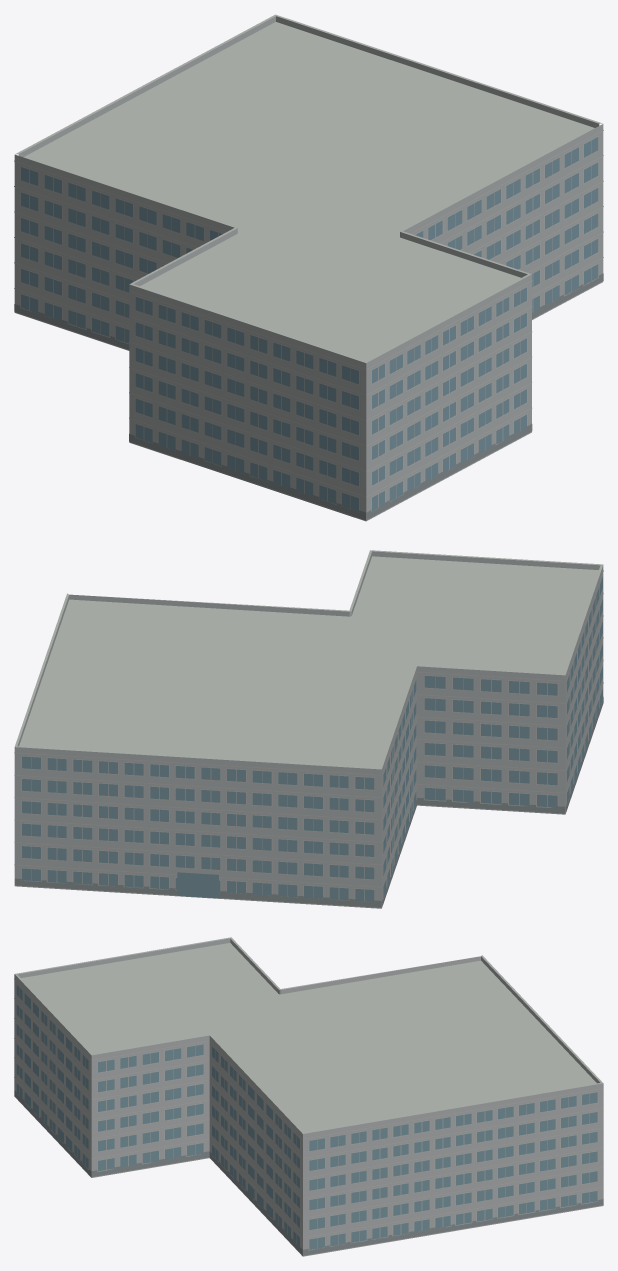
The model's file is public-8a29dd1b-239b-4e88-a797-2ed0fd060c42.glb.
3 views of the same model, one above another, from view 1: azimuth 30°, elevation 25°; view 2: azimuth 150°, elevation 25°; view 3: azimuth 270°, elevation 25° (orthographic). The views are drawn at different scales.
Visible parts, largest first — view 1: public-8a29dd1b-239b-4e88-a797-2ed0fd060c42; view 2: public-8a29dd1b-239b-4e88-a797-2ed0fd060c42; view 3: public-8a29dd1b-239b-4e88-a797-2ed0fd060c42.
Part boxes in pixels (x1,y1,x2,y2): public-8a29dd1b-239b-4e88-a797-2ed0fd060c42: (14,14,603,521); public-8a29dd1b-239b-4e88-a797-2ed0fd060c42: (14,550,603,908); public-8a29dd1b-239b-4e88-a797-2ed0fd060c42: (14,937,603,1256).
Bounding box in the file's own units: 63.07 × 18.3 × 79.75.
